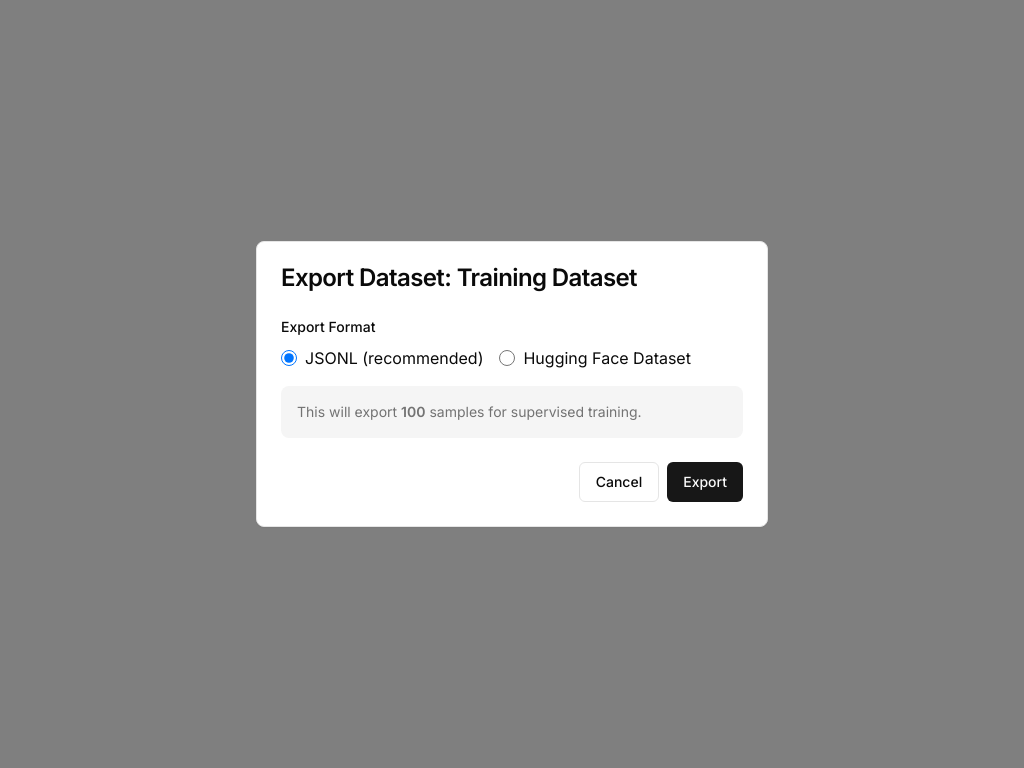
DatasetExportDialog › shows success message after export
Click the button "Export" at {"x": 705, "y": 482}, box x1=667 y1=462 x2=743 y2=502
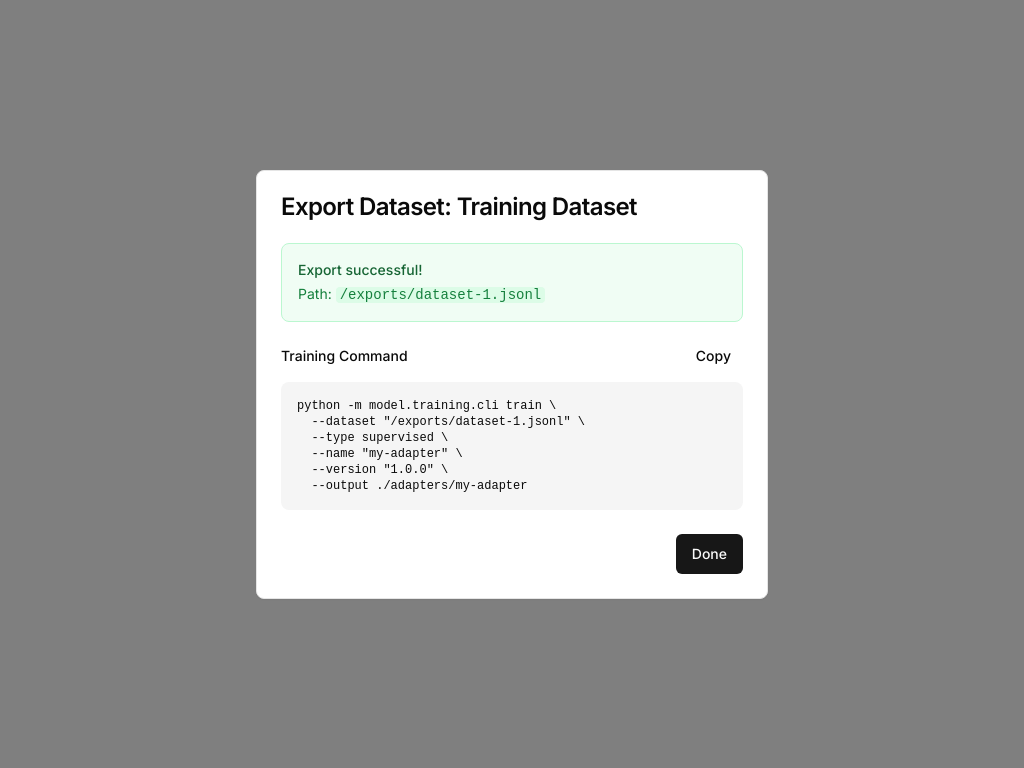
Result: the text "Export successful!" is shown at x1=298 y1=260 x2=422 y2=278
Result: the text "/exports/dataset-1.jsonl" is shown at x1=336 y1=286 x2=545 y2=302
